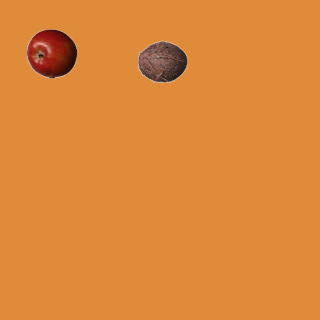Apple Braeburn: (26, 28, 76, 78)
Cocos: (137, 36, 187, 86)
